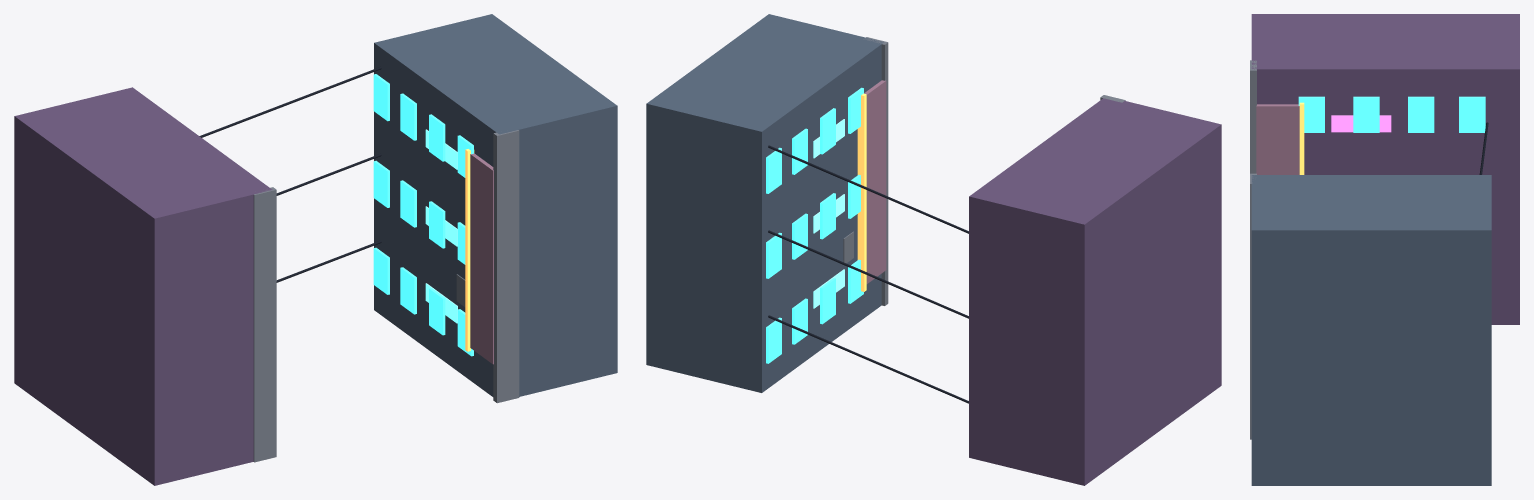
The model's file is street_module.glb.
The picture shows the model from 3 angles, left to right: view 1: azimuth 30°, elevation 25°; view 2: azimuth 150°, elevation 25°; view 3: azimuth 270°, elevation 25°; orthographic projection. The views are drawn at different scales.
Parts seen in each view (by area): view 1: BuildingLeft; view 2: BuildingLeft; view 3: BuildingLeft.
Part boxes in pixels (x1,y1,x2,y2): BuildingLeft: [14, 14, 617, 485]; BuildingLeft: [646, 14, 1221, 485]; BuildingLeft: [1250, 14, 1519, 485].
Size of the model in its own units: 14.5 by 8 by 7.65.
